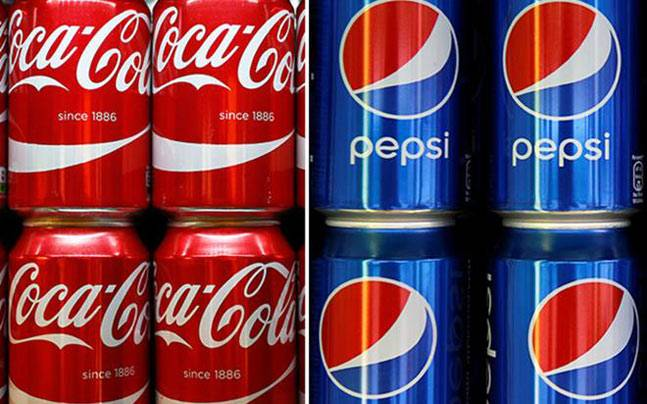pepsi: (321, 275, 434, 397), (340, 0, 457, 115), (504, 0, 615, 116), (531, 276, 637, 397), (340, 0, 451, 115)
